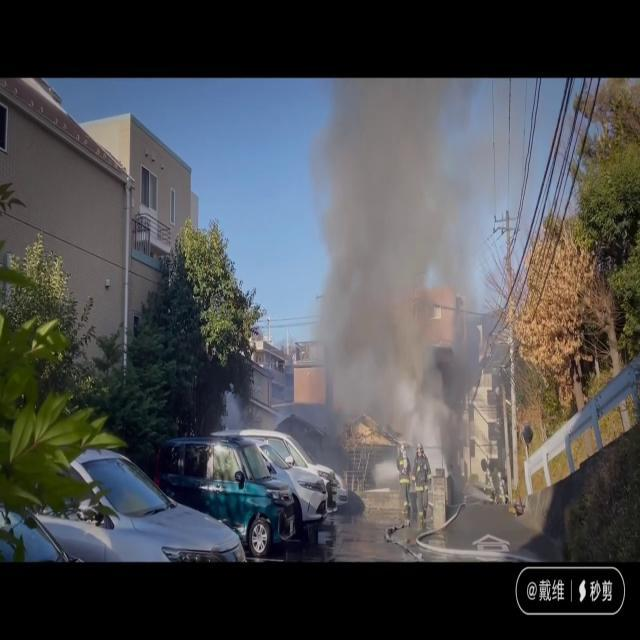Smoke: (302, 78, 500, 454)
